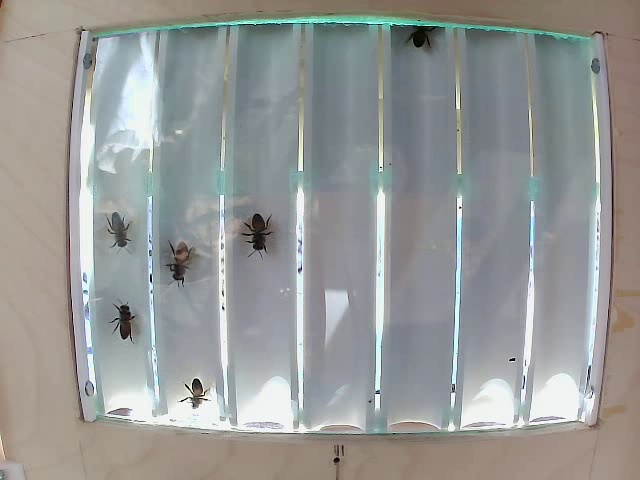bee: (227, 194, 279, 247), (90, 201, 132, 255), (153, 237, 203, 277), (100, 301, 141, 339), (180, 379, 213, 413)
